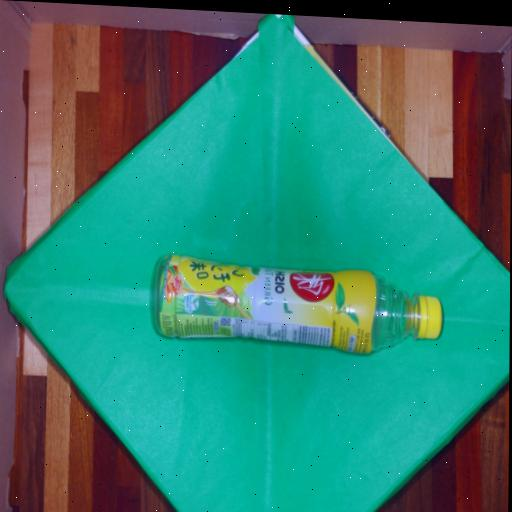bottle: (151, 258, 443, 357)
